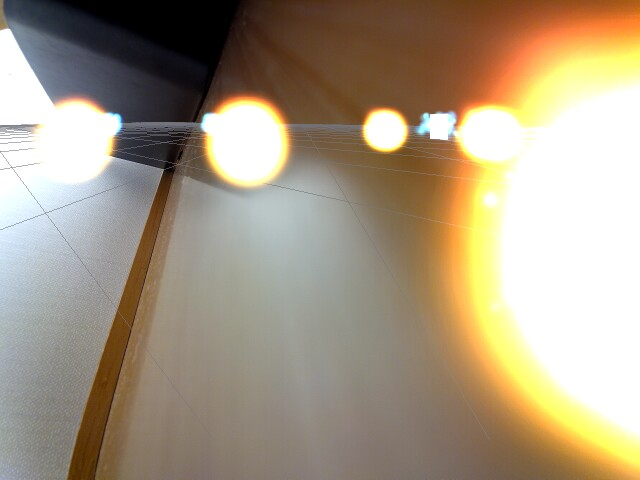firebig: (526, 11, 636, 478)
